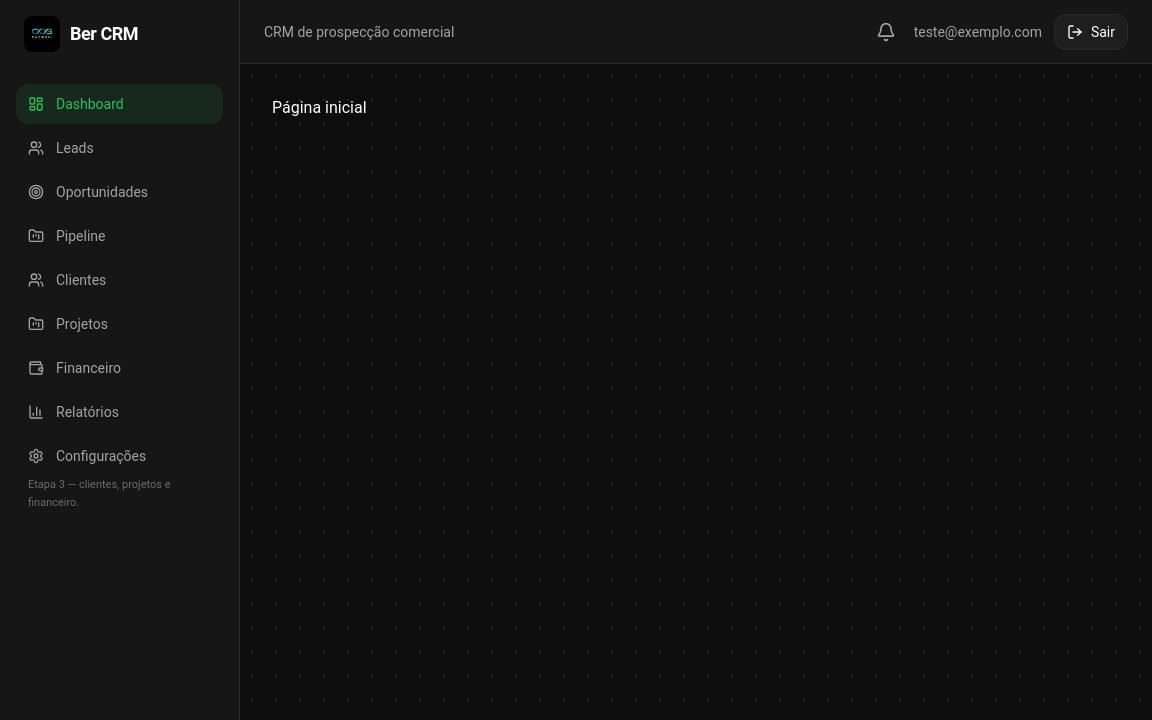
Scenario: AppLayout sino de atrasados › recarrega o contador quando a rota muda
Click the link "Leads".
click(61, 148)  # box [28,140,94,156]
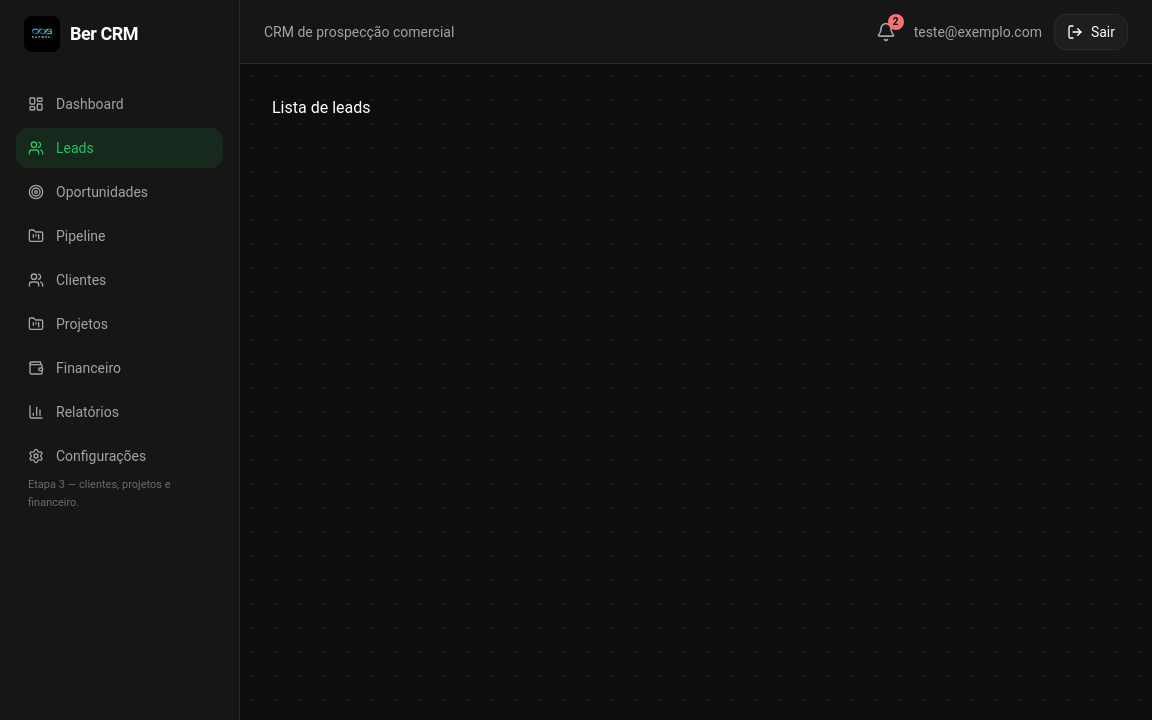
Result: the text "Lista de leads" is shown at [272,98,370,117]
Result: the text "2" is shown at [888,14,904,30]
